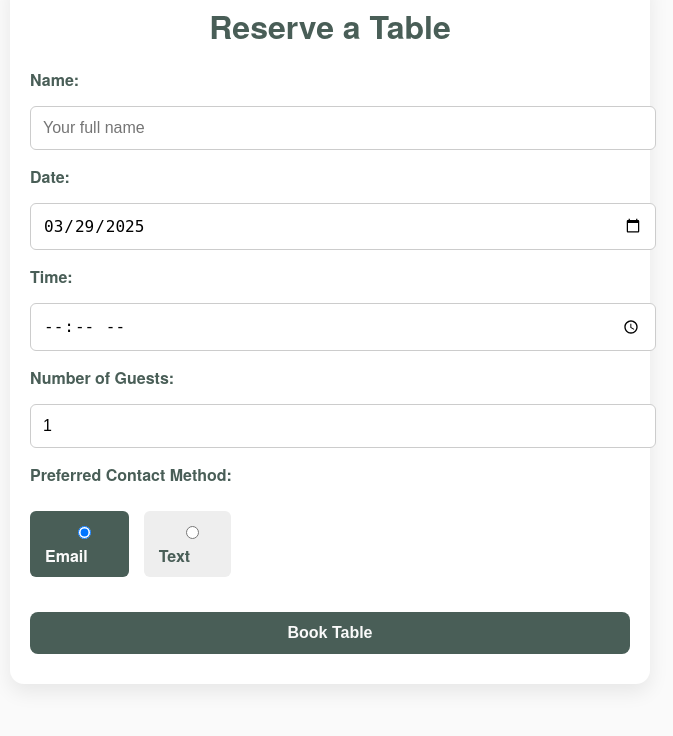
Test case: ReservationPage › shows error if form is submitted empty
The width and height of the screenshot is (673, 736).
Click the button "Book Table": (330, 633) [30,612,630,654]
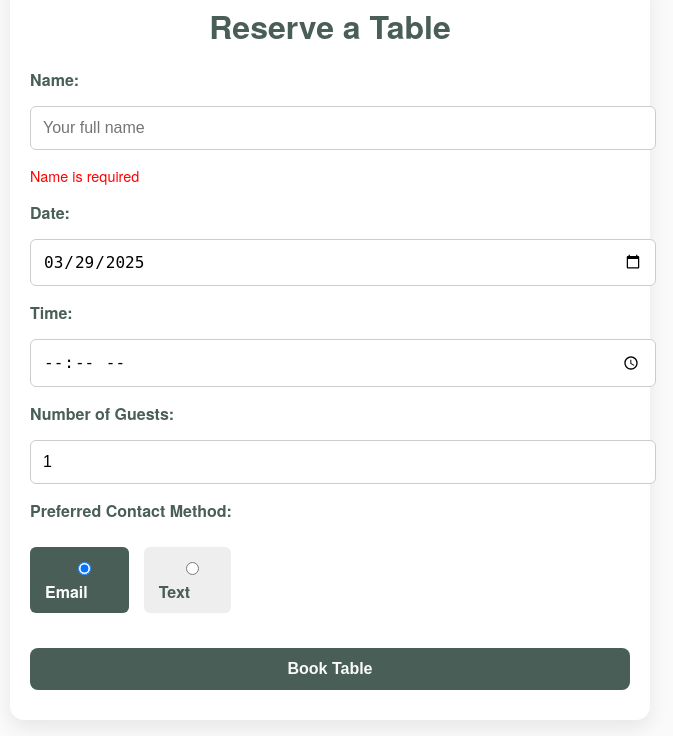
Expected: the text "Name is required" is shown, [30,165,139,186]
